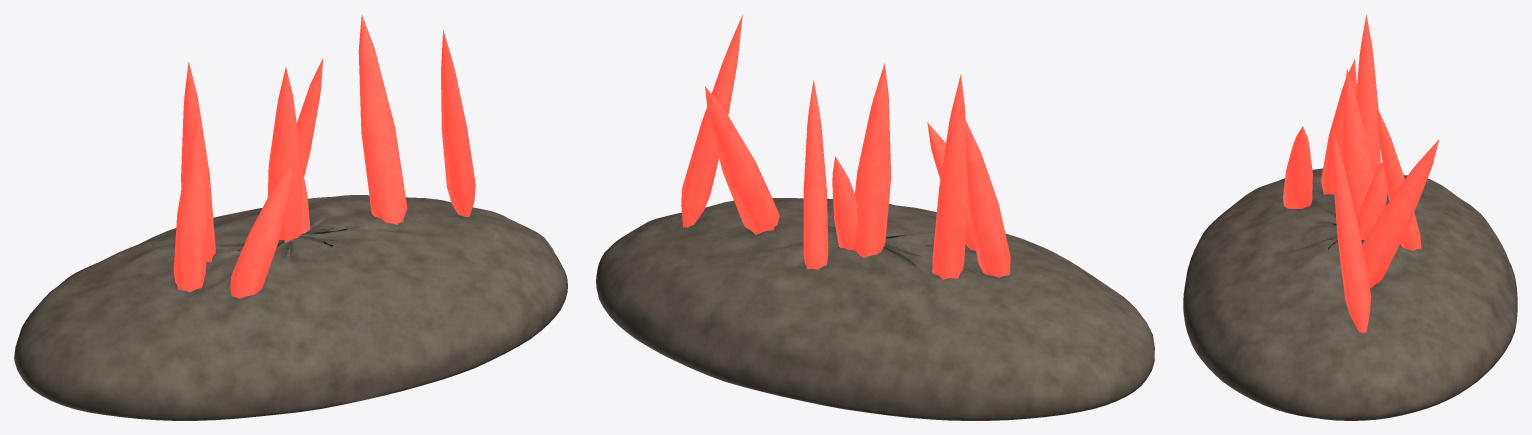
Rendered from booster_firepower.glb.
3 renders of one model, left to right at view 1: azimuth 30°, elevation 25°; view 2: azimuth 150°, elevation 25°; view 3: azimuth 270°, elevation 25°, orthographic. The views are drawn at different scales.
Visible parts, largest first — view 1: ColonyBody; view 2: ColonyBody; view 3: ColonyBody.
Part boxes in pixels (<box>): ColonyBody: <box>14,14,567,420</box>; ColonyBody: <box>596,14,1154,420</box>; ColonyBody: <box>1183,14,1517,420</box>.
Bounding box in the file's own units: 2.89 × 1.51 × 1.79.
2 materials, 2 textured.
